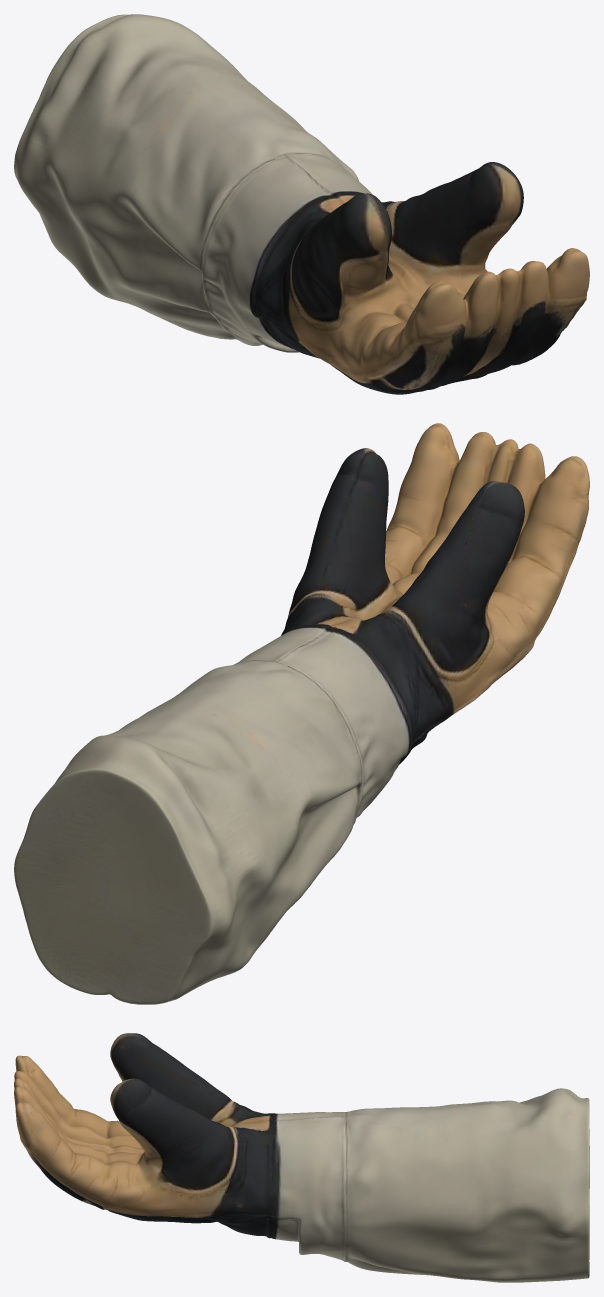
The model's file is handL.lo.glb.
3 renders of one model, top to bottom at view 1: azimuth 30°, elevation 25°; view 2: azimuth 150°, elevation 25°; view 3: azimuth 270°, elevation 25°, orthographic. The views are drawn at different scales.
Visible parts, largest first — view 1: model; view 2: model; view 3: model.
Part boxes in pixels (x1,y1,x2,y2): model: (14,14,589,394); model: (14,423,589,1004); model: (14,1033,589,1282).
Size of the model in its own units: 0.5636 by 0.7661 by 1.89.
Materials: 1 (1 with a texture image).
